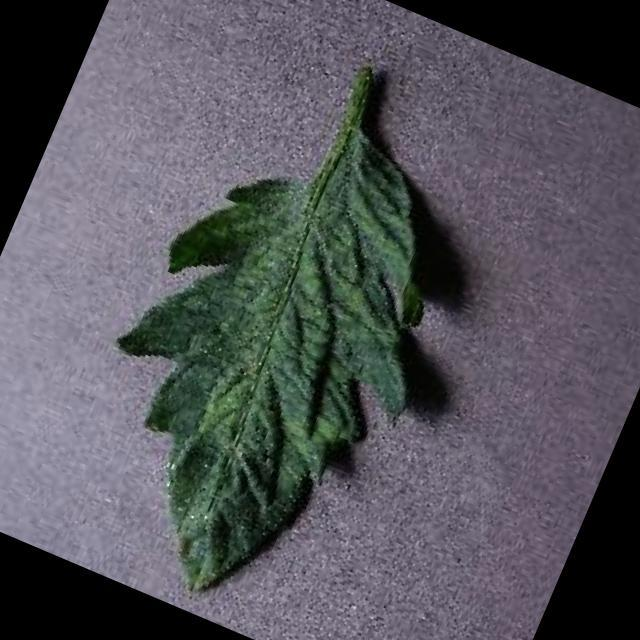Tomato mosaic virus leaf: (32, 77, 498, 640)
